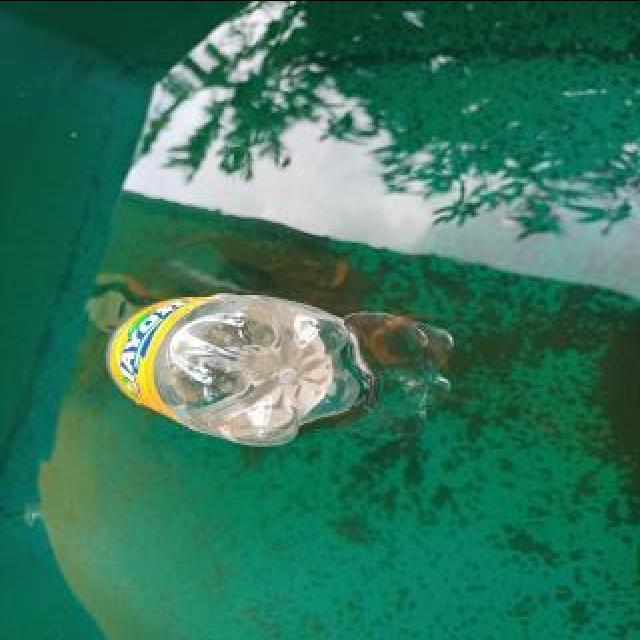Bottle: (106, 294, 372, 448)
